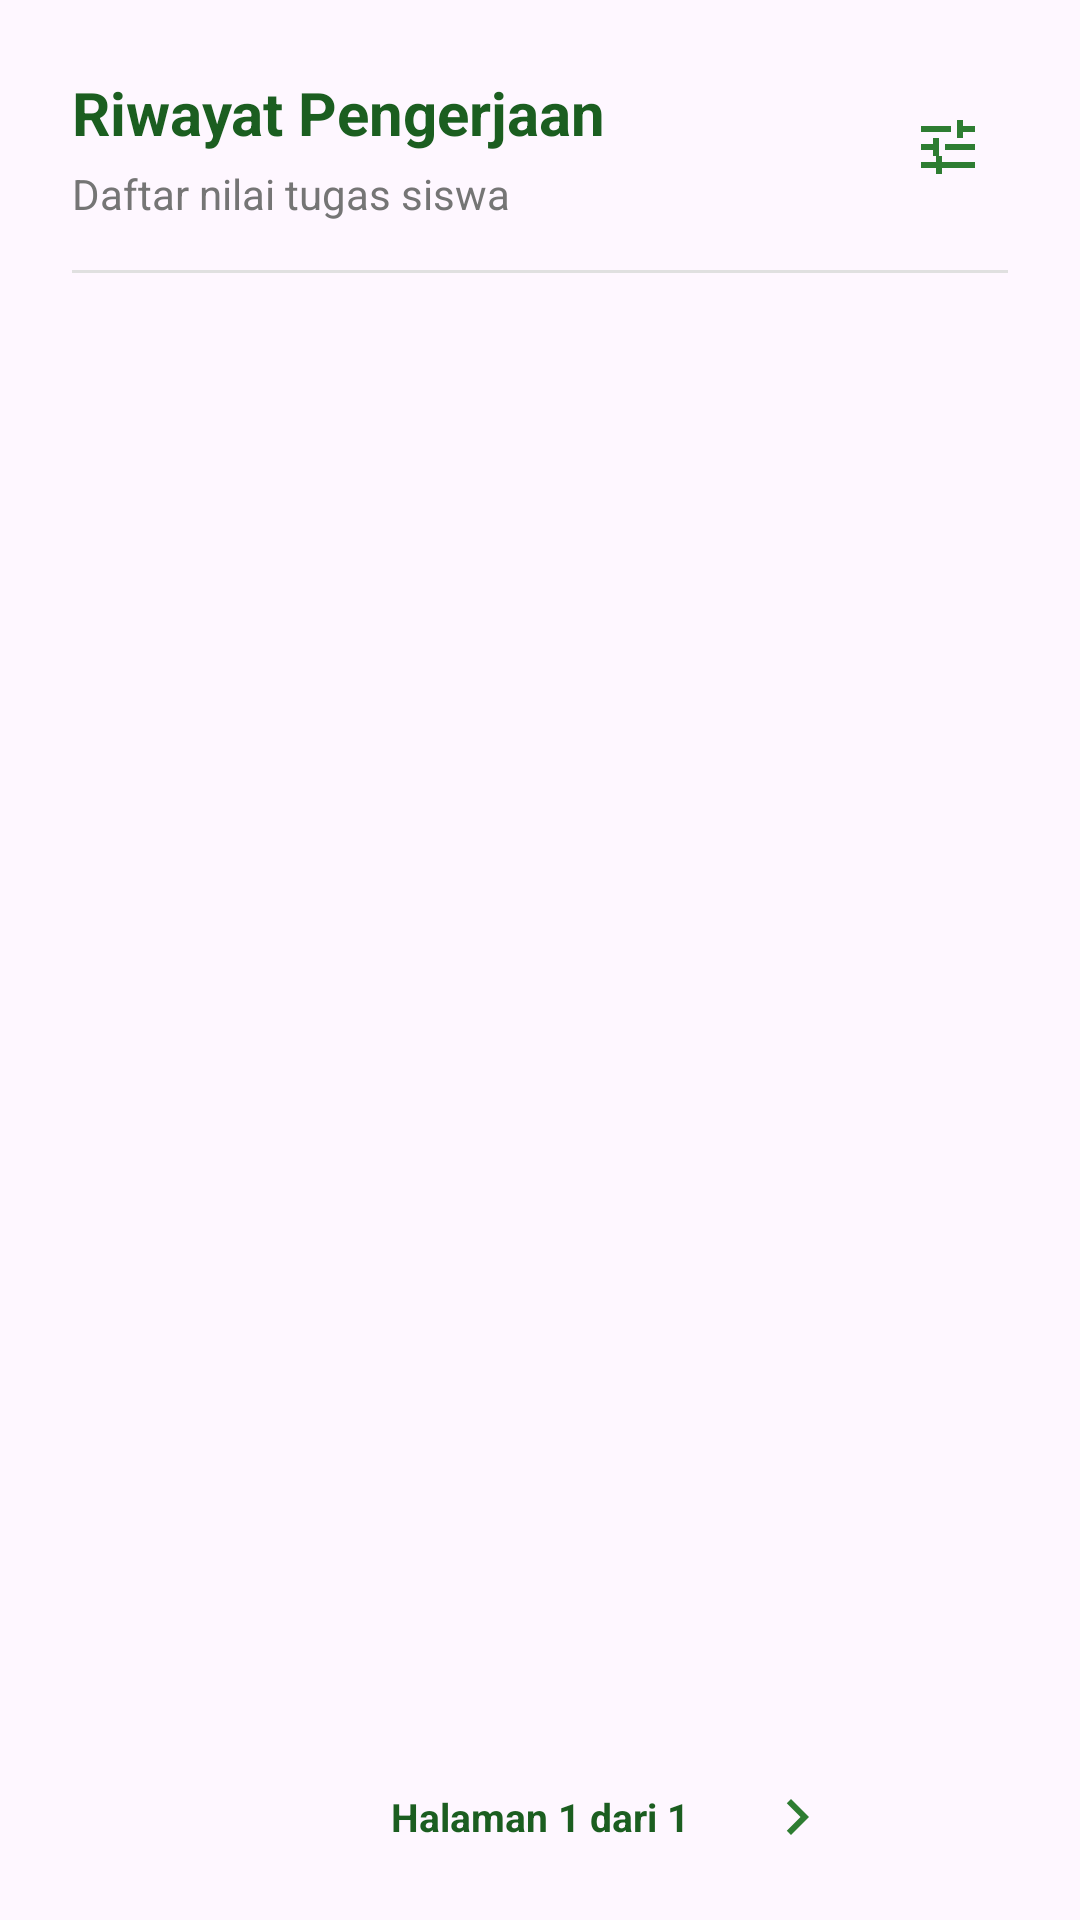

Icon click points for this 1080*1920 phone screenshot, format (x,y):
filter: (948,147)
